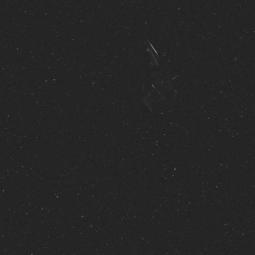xmm_newton: (130, 41, 206, 128)
